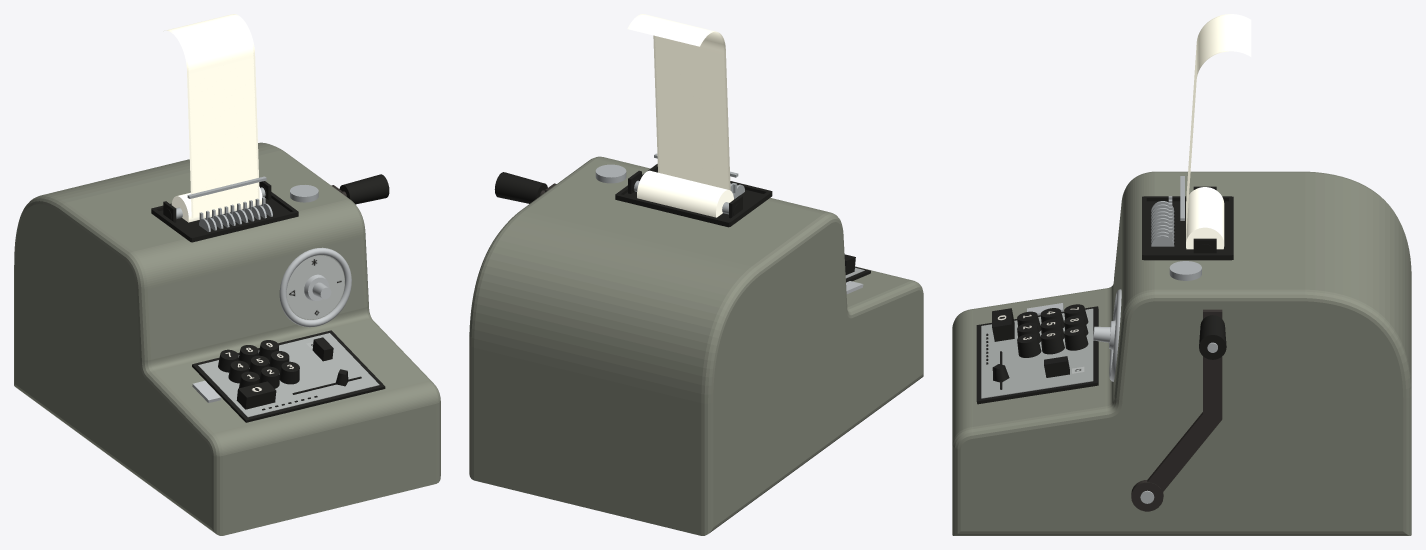
Rendered from summa-15.glb.
The picture shows the model from 3 angles, left to right: view 1: azimuth 30°, elevation 25°; view 2: azimuth 150°, elevation 25°; view 3: azimuth 270°, elevation 25°; orthographic projection. The views are drawn at different scales.
Parts seen in each view (by area): view 1: clicavel_76, painel_tape, summa-15_peca_6, painel_sumdir, summa-15_peca_5, summa-15_peca_21, clicavel_93, calcKeys_0, summa-15_peca_29, summa-15_peca_28, summa-15_peca_33; view 2: clicavel_76, painel_tape, summa-15_peca_33, clicavel_93, summa-15_peca_30; view 3: clicavel_76, summa-15_peca_6, clicavel_91, painel_tape, summa-15_peca_33, summa-15_peca_5, summa-15_peca_28, clicavel_93, summa-15_peca_32, calcKeys_0, clicavel_90, summa-15_peca_21 (+1 smaller).
Boxes of the visible parts, left/top/right/bottom form: clicavel_76: left=14, top=142, right=440, bottom=535; painel_tape: left=163, top=14, right=259, bottom=218; summa-15_peca_6: left=198, top=333, right=379, bottom=417; painel_sumdir: left=286, top=255, right=344, bottom=319; summa-15_peca_5: left=192, top=330, right=385, bottom=422; summa-15_peca_21: left=279, top=247, right=351, bottom=327; clicavel_93: left=339, top=174, right=389, bottom=204; calcKeys_0: left=236, top=381, right=276, bottom=409; summa-15_peca_29: left=190, top=211, right=298, bottom=242; summa-15_peca_28: left=159, top=198, right=290, bottom=235; summa-15_peca_33: left=171, top=186, right=262, bottom=222; clicavel_76: left=469, top=156, right=923, bottom=535; painel_tape: left=627, top=14, right=730, bottom=190; summa-15_peca_33: left=637, top=170, right=733, bottom=217; clicavel_93: left=494, top=172, right=547, bottom=203; summa-15_peca_30: left=615, top=193, right=730, bottom=227; clicavel_76: left=952, top=171, right=1411, bottom=535; summa-15_peca_6: left=981, top=308, right=1093, bottom=398; clicavel_91: left=1147, top=309, right=1222, bottom=492; painel_tape: left=1186, top=14, right=1251, bottom=238; summa-15_peca_33: left=1186, top=187, right=1224, bottom=249; summa-15_peca_5: left=976, top=306, right=1098, bottom=404; summa-15_peca_28: left=1146, top=201, right=1228, bottom=253; clicavel_93: left=1199, top=315, right=1226, bottom=359; summa-15_peca_32: left=1143, top=253, right=1231, bottom=260; calcKeys_0: left=992, top=308, right=1014, bottom=341; clicavel_90: left=1131, top=480, right=1163, bottom=511; summa-15_peca_21: left=1109, top=289, right=1121, bottom=381.
Size of the model in its own units: 9.61 by 12.73 by 11.94.
Materials: 25 (14 with a texture image).
